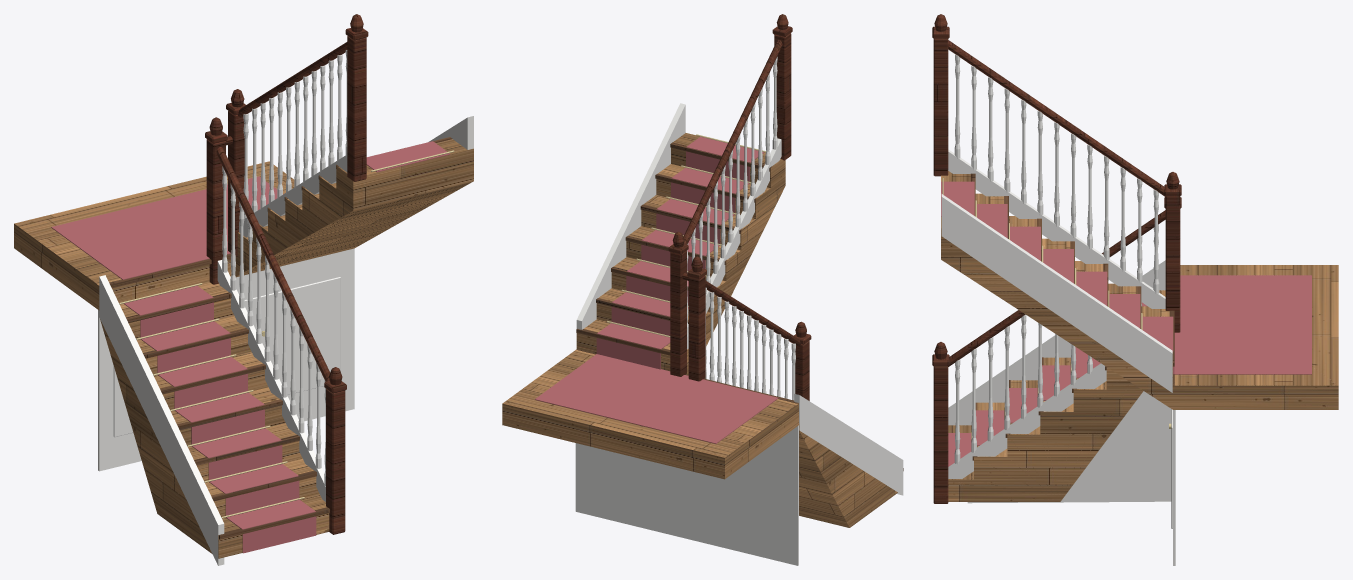
Rendered from stair_0_l.glb.
3 views of the same model, side by side, from view 1: azimuth 30°, elevation 25°; view 2: azimuth 150°, elevation 25°; view 3: azimuth 270°, elevation 25° (orthographic). The views are drawn at different scales.
Visible parts, largest first — view 1: stair_0_l_trim, stair_0_l_wood, stair_0_l_carpet_r, stair_0_l_mahog, stair_0_l_dkwood, stair_0_l_brass; view 2: stair_0_l_trim, stair_0_l_wood, stair_0_l_carpet_r, stair_0_l_mahog, stair_0_l_dkwood, stair_0_l_brass; view 3: stair_0_l_trim, stair_0_l_wood, stair_0_l_carpet_r, stair_0_l_mahog, stair_0_l_dkwood.
Boxes of the visible parts, <box> form: stair_0_l_trim: <box>98,50,473,565</box>; stair_0_l_wood: <box>14,139,473,558</box>; stair_0_l_carpet_r: <box>51,141,450,553</box>; stair_0_l_mahog: <box>205,14,368,534</box>; stair_0_l_dkwood: <box>109,137,452,539</box>; stair_0_l_brass: <box>119,150,454,518</box>; stair_0_l_trim: <box>575,56,903,565</box>; stair_0_l_wood: <box>502,133,897,527</box>; stair_0_l_carpet_r: <box>535,136,778,443</box>; stair_0_l_mahog: <box>668,14,811,400</box>; stair_0_l_dkwood: <box>576,142,903,470</box>; stair_0_l_brass: <box>607,134,765,337</box>; stair_0_l_trim: <box>941,54,1175,565</box>; stair_0_l_wood: <box>941,171,1338,501</box>; stair_0_l_carpet_r: <box>941,181,1311,466</box>; stair_0_l_mahog: <box>932,14,1181,503</box>; stair_0_l_dkwood: <box>970,173,1174,460</box>.
Bounding box in the file's own units: 2.16 × 4.19 × 3.06.
Materials: 6 (3 with a texture image).
